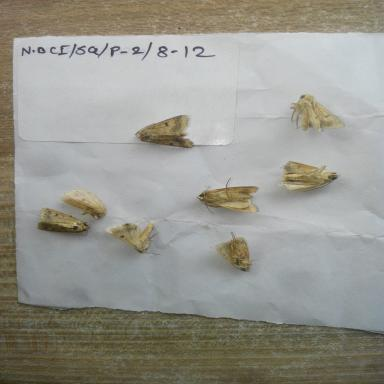abw: (125, 109, 202, 155), (277, 90, 351, 136), (192, 173, 264, 218), (272, 156, 348, 196), (53, 183, 115, 227), (101, 216, 161, 260), (208, 230, 261, 277), (31, 202, 94, 240)
